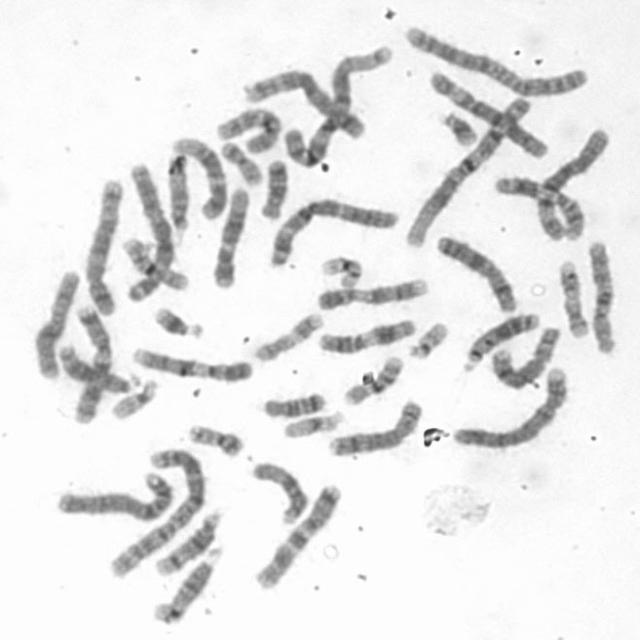A1: (399, 88, 538, 248), (280, 39, 398, 169)
A2: (398, 18, 594, 98), (102, 441, 210, 579)
A3: (263, 191, 404, 269), (120, 158, 175, 304)
B4: (448, 362, 572, 452), (51, 467, 177, 523)
B5: (238, 65, 370, 141), (79, 173, 127, 317)
C10: (584, 235, 622, 356), (210, 101, 284, 156)
C11: (490, 170, 587, 242), (313, 313, 419, 355)
C12: (167, 132, 230, 223), (208, 182, 252, 290)
C6: (423, 65, 551, 161), (530, 122, 613, 244)
C7: (248, 478, 345, 592), (67, 301, 115, 425)
C8: (322, 394, 426, 459), (484, 320, 563, 390)
C9: (127, 340, 256, 384), (312, 272, 432, 312)
D13: (457, 306, 542, 373), (54, 339, 141, 395)
D14: (149, 544, 225, 626), (149, 504, 225, 578)
D15: (245, 455, 311, 526), (163, 149, 194, 236)
E16: (117, 232, 190, 292), (339, 350, 407, 407)
E17: (250, 307, 326, 363), (554, 254, 594, 340)
E18: (255, 155, 291, 220), (257, 387, 328, 419)
F19: (278, 405, 348, 441), (315, 250, 365, 290)
F20: (183, 417, 248, 458), (216, 136, 267, 187)
G21: (148, 300, 209, 340), (436, 104, 480, 148)
G22: (105, 374, 161, 422), (403, 316, 451, 360)
X: (432, 228, 521, 315), (28, 263, 82, 382)
